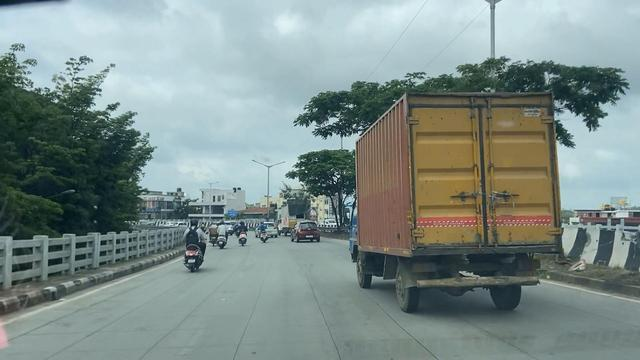HMV: (374, 86, 565, 327)
LMV: (183, 220, 209, 274), (297, 222, 317, 242), (216, 219, 227, 250), (260, 221, 269, 243)
